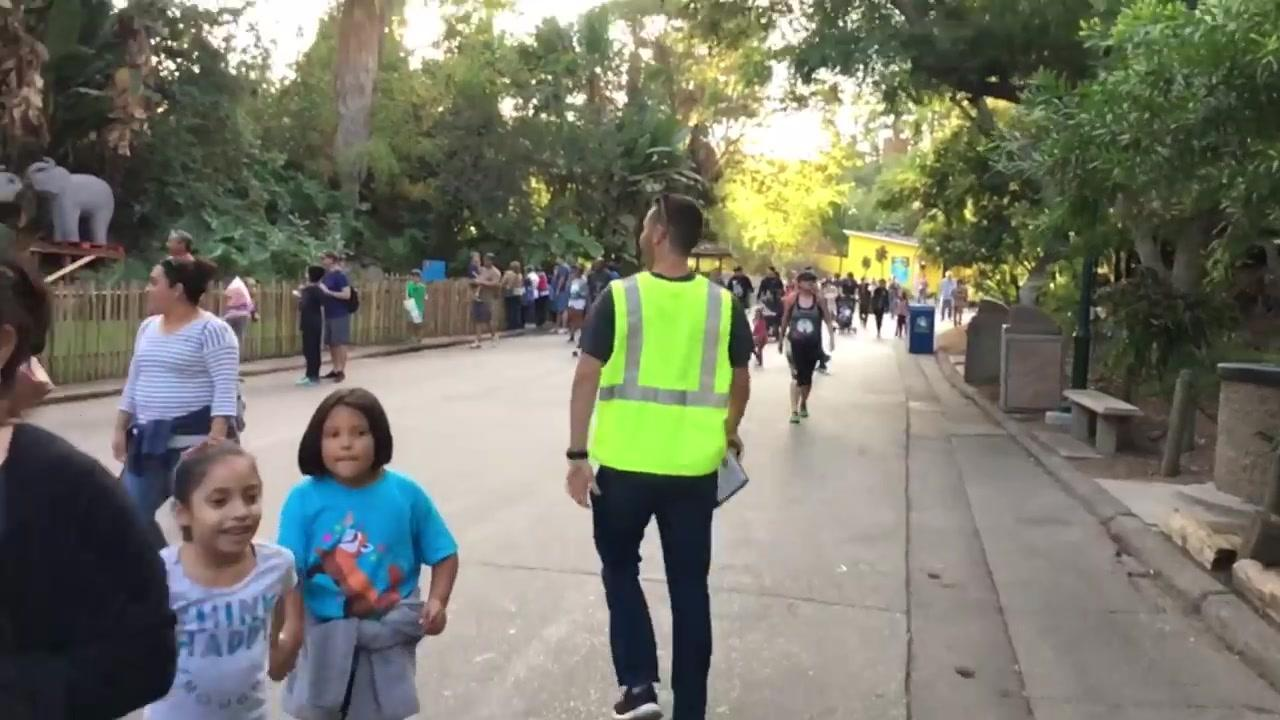vest: (587, 269, 734, 479)
